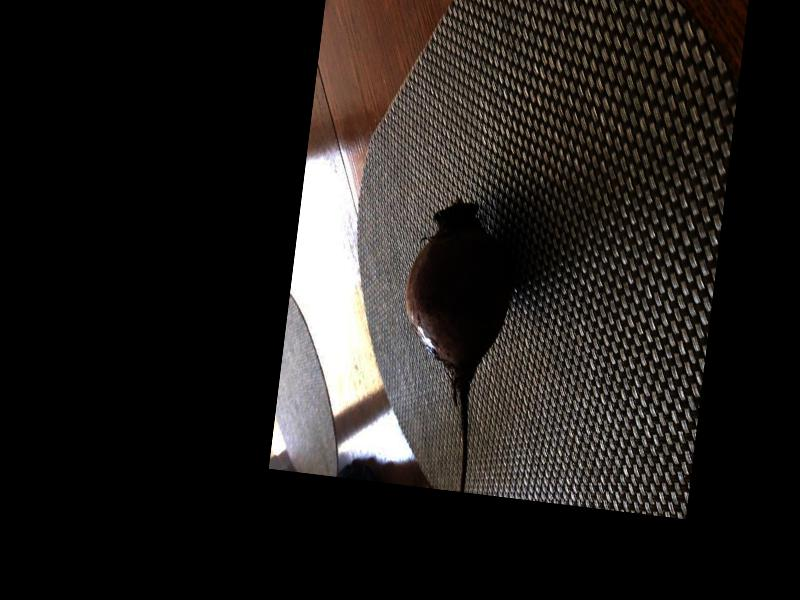Beet: (384, 196, 519, 491)
